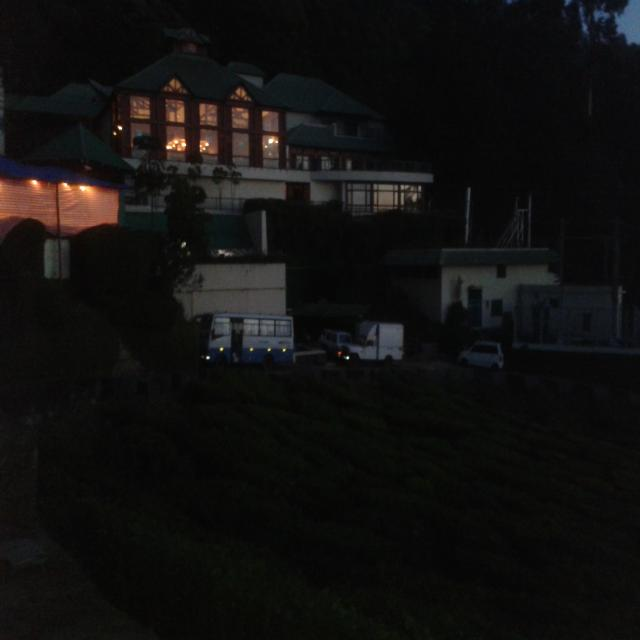Bus: (200, 307, 303, 370)
car: (334, 303, 415, 380), (464, 327, 501, 381), (315, 321, 351, 368)
